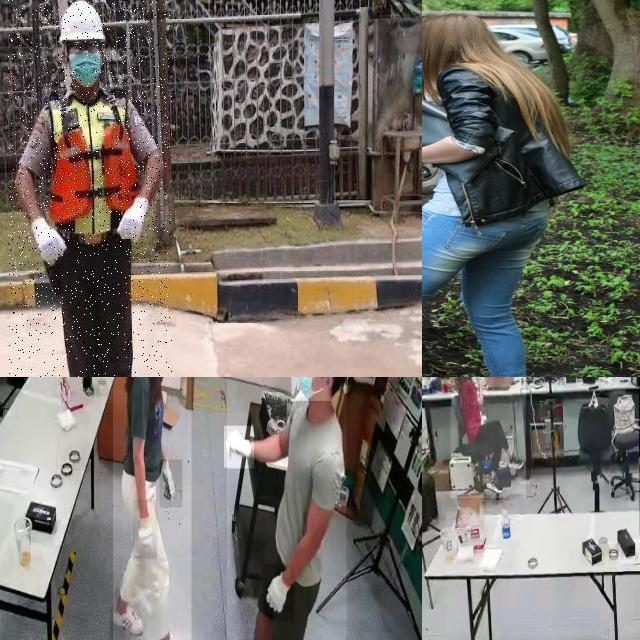face_mask: (291, 377, 332, 400)
hand_glove: (263, 564, 295, 623), (133, 500, 158, 560), (224, 426, 254, 468), (160, 460, 182, 508)
hand_noglove: (476, 378, 482, 389)
head_helmet: (58, 0, 106, 45)
person: (8, 0, 172, 377), (227, 377, 347, 640), (113, 377, 192, 640), (450, 377, 526, 498)
shoes: (110, 597, 144, 640), (153, 625, 193, 640), (506, 446, 525, 472), (485, 470, 503, 496)
vest: (50, 90, 139, 246)
